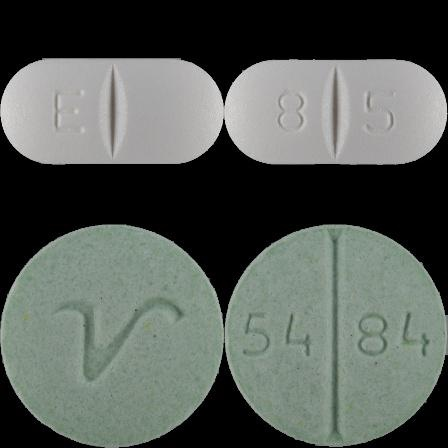66267-160: (0, 0, 224, 224)
